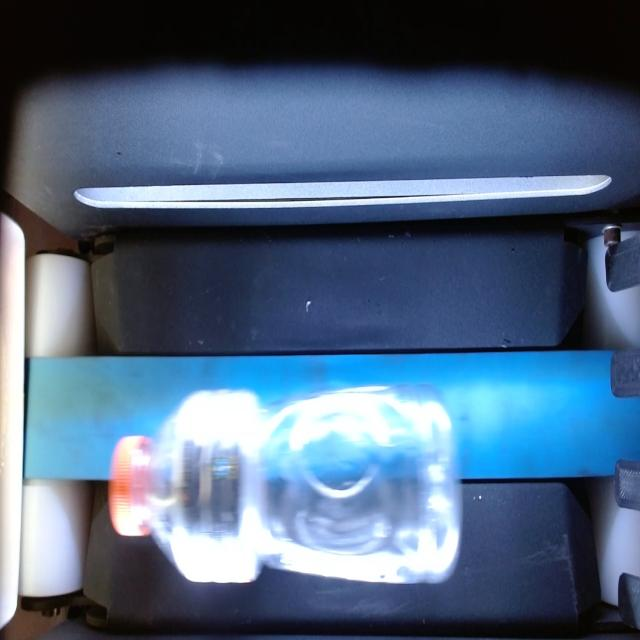bottom: (404, 377, 468, 586)
cap: (102, 422, 152, 536)
